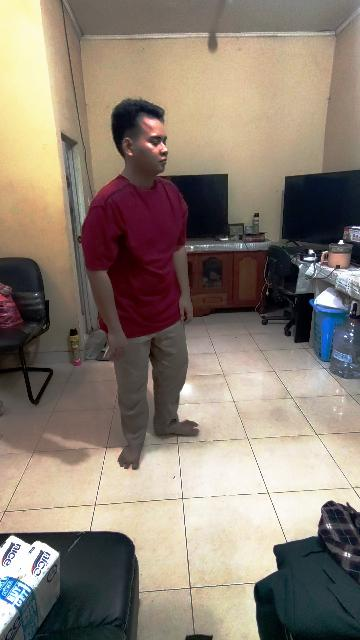berjalan: (77, 88, 193, 470)
